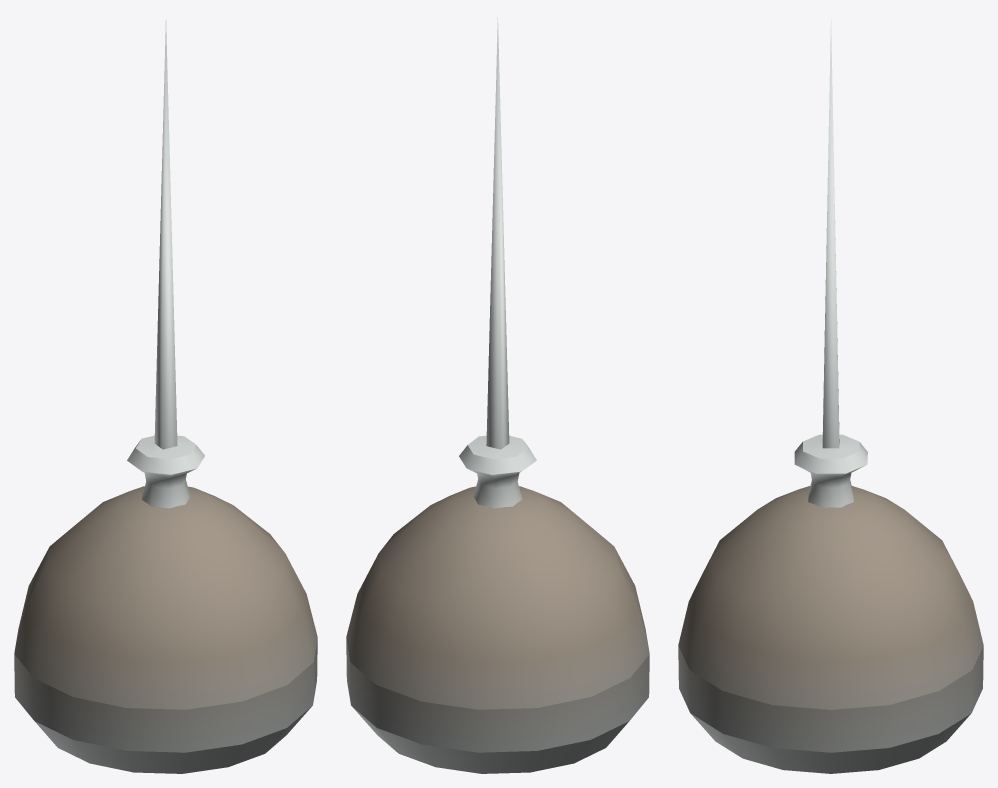
3 renders of one model, left to right at view 1: azimuth 30°, elevation 25°; view 2: azimuth 150°, elevation 25°; view 3: azimuth 270°, elevation 25°, orthographic.
Parts seen in each view (by area): view 1: G:\FFXIV-MapTools\exports\w1t2\bg\ffxiv\wil_w1\twn\common\bg (×3); view 2: G:\FFXIV-MapTools\exports\w1t2\bg\ffxiv\wil_w1\twn\common\bg (×3); view 3: G:\FFXIV-MapTools\exports\w1t2\bg\ffxiv\wil_w1\twn\common\bg (×3).
Part boxes in pixels (x1,y1,x2,y2): G:\FFXIV-MapTools\exports\w1t2\bg\ffxiv\wil_w1\twn\common\bg (×3): (14, 19, 317, 773); G:\FFXIV-MapTools\exports\w1t2\bg\ffxiv\wil_w1\twn\common\bg (×3): (346, 17, 649, 773); G:\FFXIV-MapTools\exports\w1t2\bg\ffxiv\wil_w1\twn\common\bg (×3): (678, 19, 983, 773).
Bounding box in the file's own units: 10.06 × 25.71 × 10.06.
